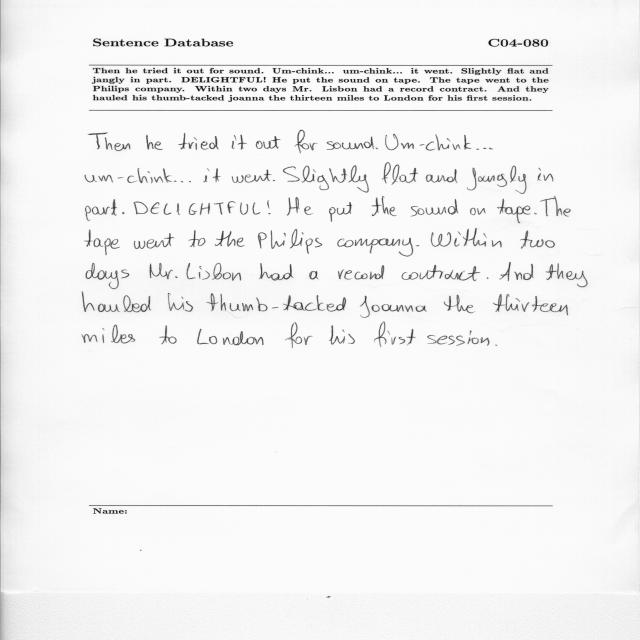word: (206, 293, 346, 312), (283, 165, 369, 193), (134, 201, 261, 215), (467, 165, 526, 194), (258, 229, 322, 254), (493, 294, 568, 315), (360, 296, 427, 318), (385, 134, 471, 151), (337, 238, 413, 257), (431, 228, 502, 248), (82, 292, 151, 312), (85, 168, 172, 183), (402, 265, 481, 281), (86, 263, 129, 289), (197, 329, 264, 345), (374, 322, 416, 347), (546, 264, 588, 288), (82, 325, 135, 344), (428, 330, 490, 346), (187, 263, 241, 281), (85, 230, 120, 256), (497, 199, 531, 224), (382, 162, 418, 185), (411, 199, 459, 216), (89, 133, 131, 151), (86, 199, 118, 221), (286, 322, 313, 348), (178, 133, 219, 150), (338, 265, 384, 280), (500, 262, 534, 281), (134, 233, 174, 249), (520, 231, 555, 249), (540, 196, 571, 216), (260, 263, 294, 281), (327, 137, 374, 150), (444, 295, 475, 313), (295, 130, 317, 154), (232, 170, 272, 183), (372, 197, 397, 217), (287, 197, 313, 216), (329, 326, 355, 345), (215, 231, 245, 247), (168, 293, 193, 312), (330, 202, 353, 222), (426, 169, 458, 183), (150, 263, 178, 279), (159, 326, 177, 345), (256, 136, 281, 149), (188, 231, 206, 248), (146, 135, 163, 150), (203, 169, 221, 183), (232, 135, 247, 150), (538, 168, 554, 182), (470, 208, 486, 215), (309, 271, 319, 279), (267, 201, 271, 215), (476, 148, 493, 150), (174, 181, 191, 183), (376, 148, 378, 150), (123, 212, 125, 214), (487, 277, 489, 279), (534, 213, 537, 214), (416, 245, 419, 246), (273, 180, 275, 181), (495, 345, 497, 346)
